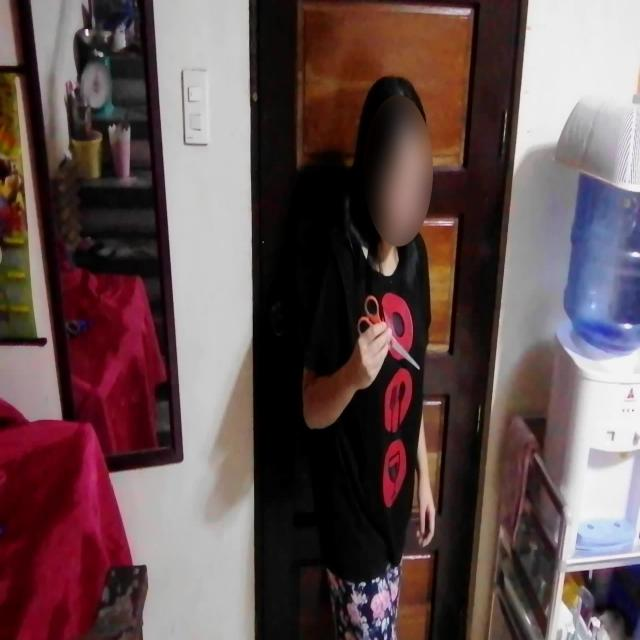scissor: (358, 294, 421, 372)
